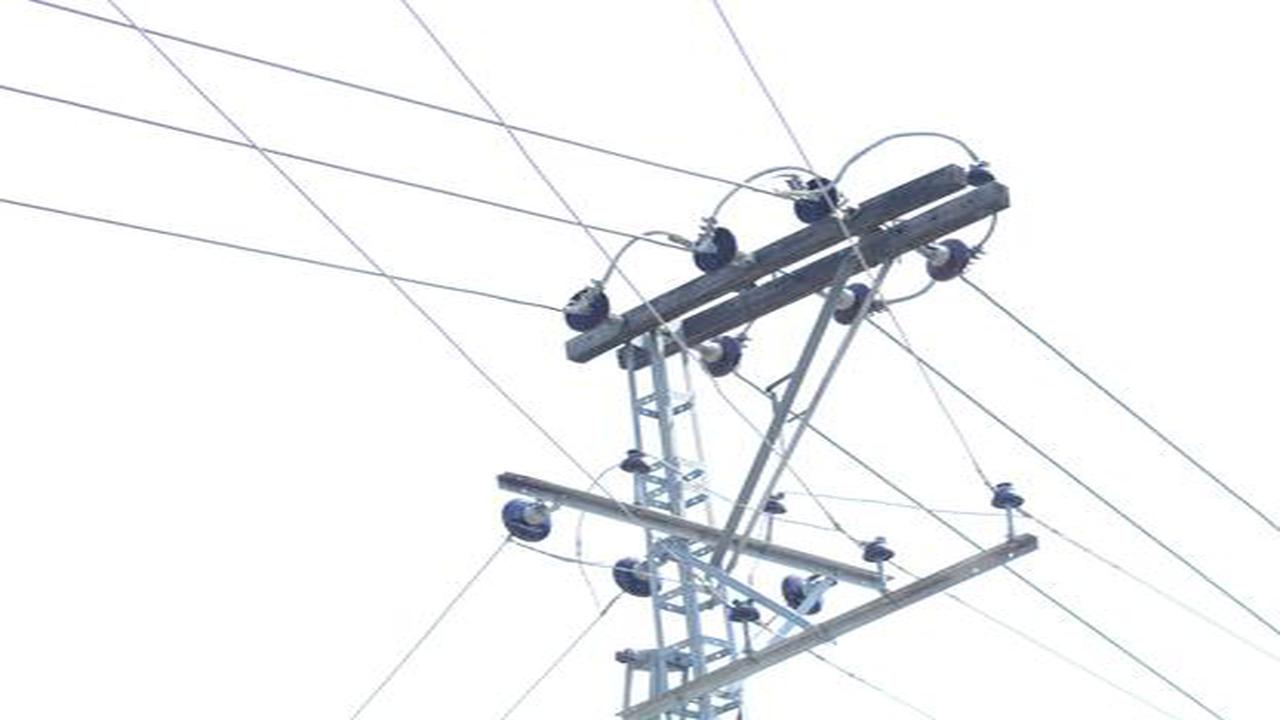insulator_disc: (498, 495, 556, 544), (791, 172, 838, 228), (690, 225, 740, 276), (563, 286, 613, 336), (611, 553, 664, 600), (693, 337, 747, 379), (779, 572, 825, 618), (925, 240, 971, 284), (833, 286, 879, 329)
insulator_pin: (859, 531, 898, 569), (619, 446, 658, 483), (990, 481, 1030, 516), (729, 593, 764, 630), (968, 158, 997, 191), (765, 488, 790, 518)
